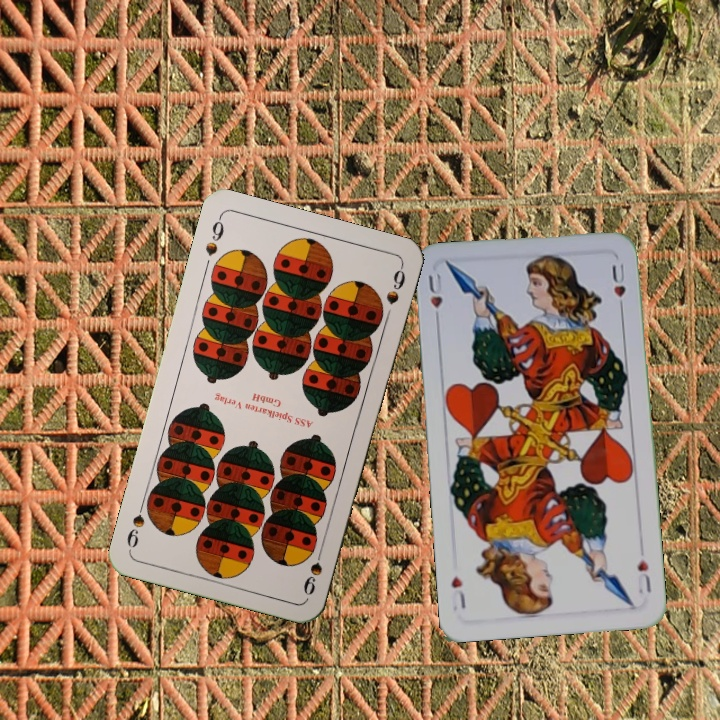HU: (424, 268, 445, 327), (633, 555, 654, 597)
S9: (299, 541, 326, 598), (201, 212, 227, 259)
